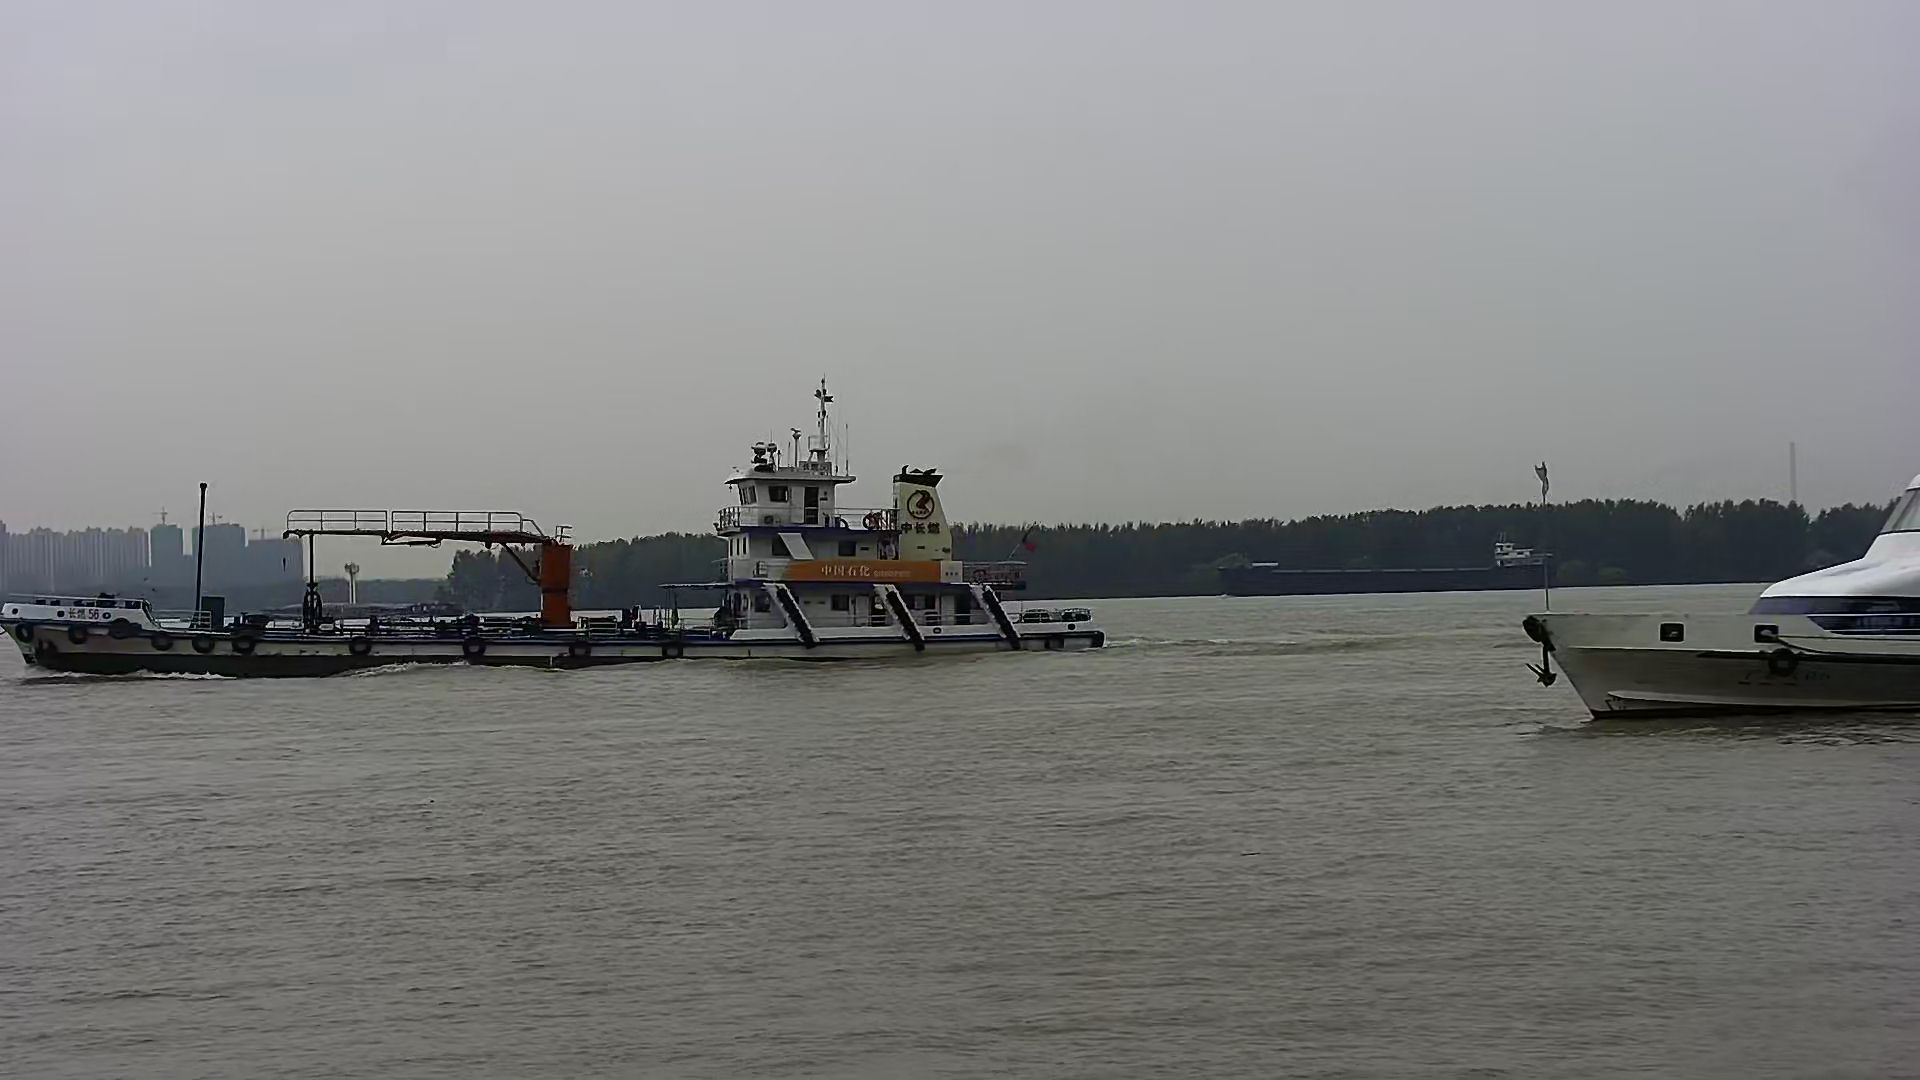ship: (1, 415, 1104, 680), (1528, 469, 1920, 725), (1218, 535, 1560, 592)
